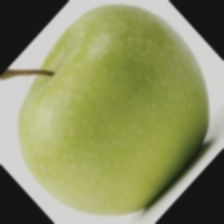apple: (21, 0, 189, 185)
